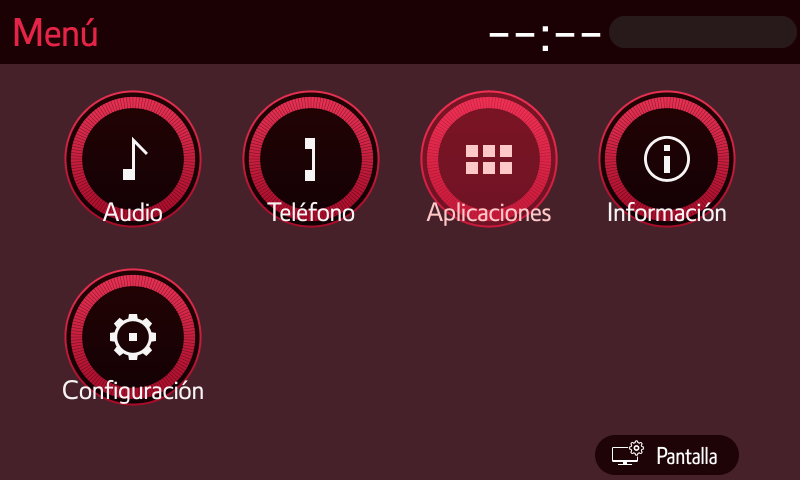touchPart: (56, 267, 212, 418), (591, 82, 744, 233), (418, 84, 560, 231), (61, 88, 208, 229), (237, 87, 383, 227), (587, 431, 747, 475)
untouchPart: (462, 10, 794, 52), (7, 12, 109, 50)
